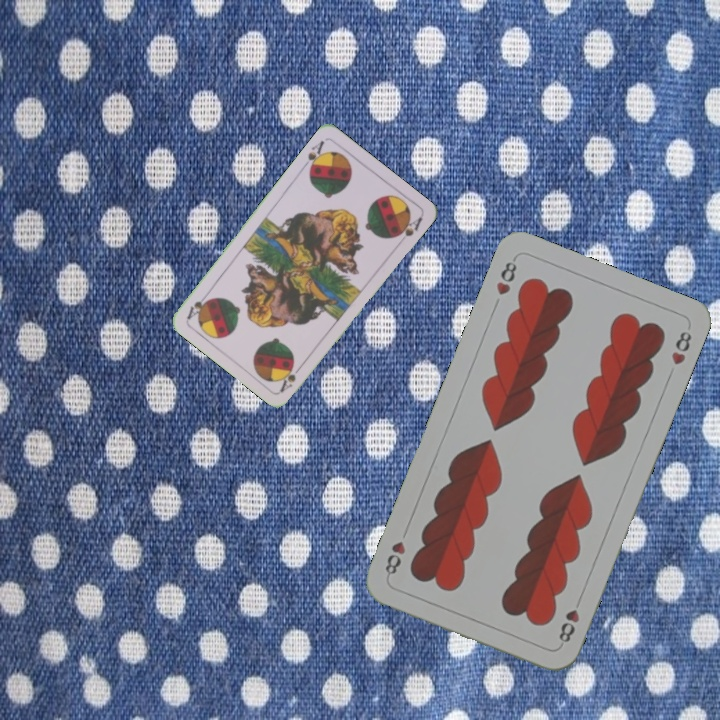H8: (492, 253, 520, 298), (555, 605, 582, 649)
SA: (298, 136, 329, 175), (276, 360, 306, 395)
